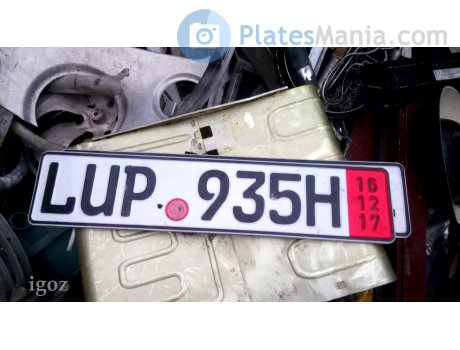License Plates: (55, 163, 348, 228)
